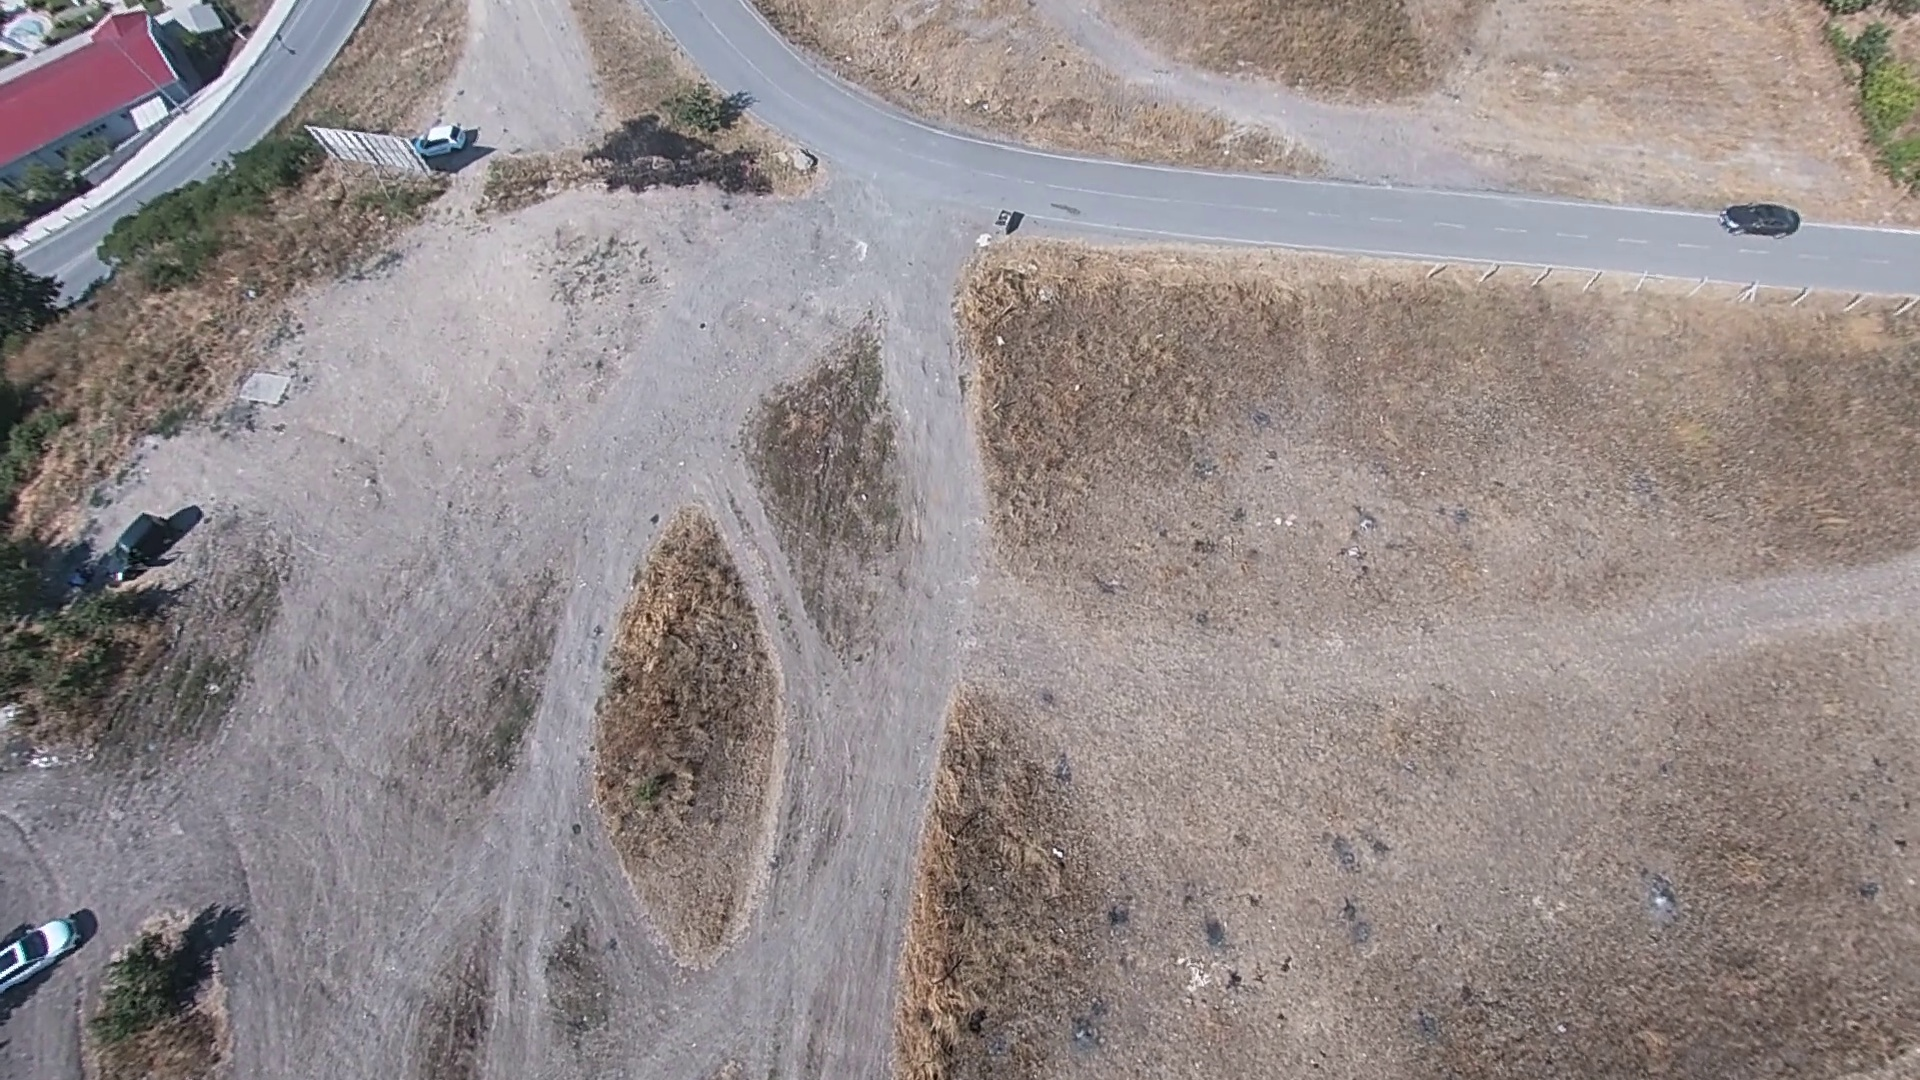araba: (1, 905, 98, 996), (83, 501, 179, 585), (407, 117, 475, 162), (1721, 203, 1800, 236)
